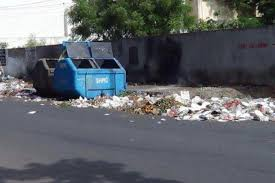garbage: (132, 93, 275, 122), (81, 97, 275, 111), (1, 77, 32, 98)
